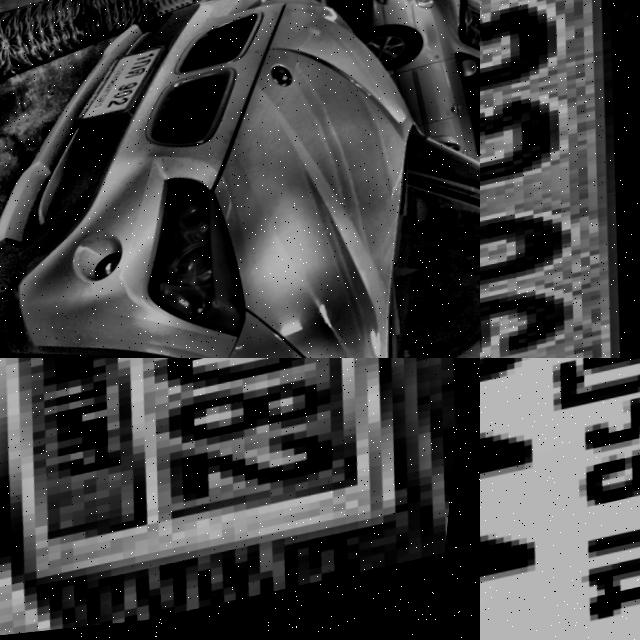license-plate: (0, 358, 480, 640), (480, 0, 640, 358), (480, 358, 640, 640), (71, 49, 176, 130)
